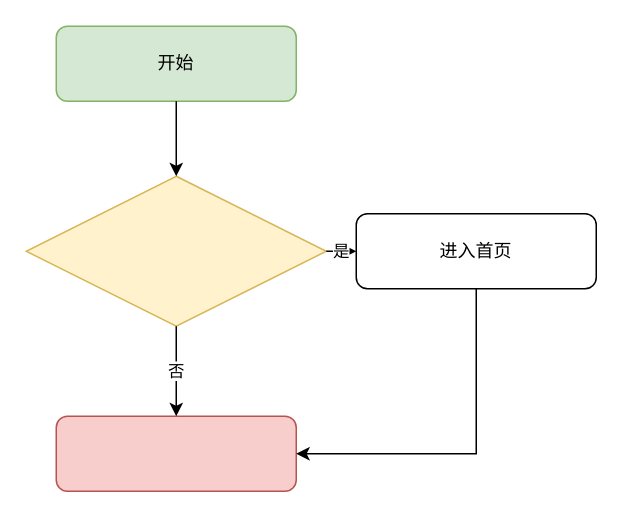
Image size: 623x518. Some labels were removed from this diagram. The shapes that lost their labels are listed below. From the top down, each one's centre as x and y in pixels, then its label:
At pixel 175 250: "是否已登录".
At pixel 175 453: "结束".
